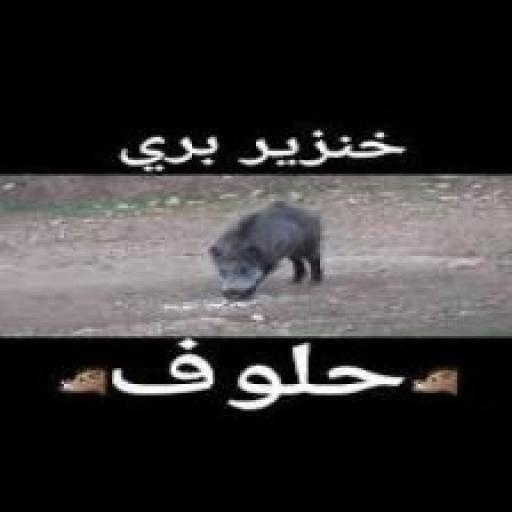Pig: (188, 201, 340, 334)
